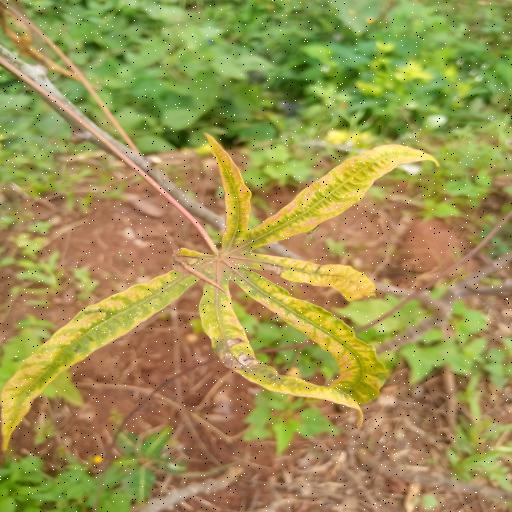Cassava_Mosaic: (2, 130, 440, 450)
